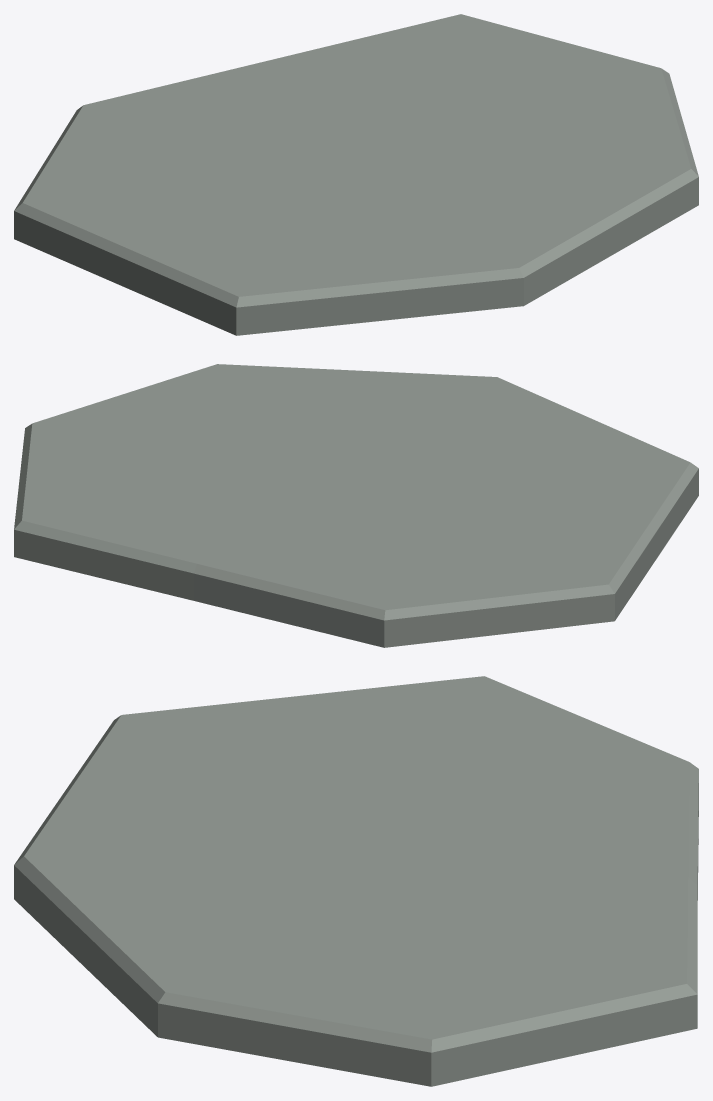
File: Pebble_03.glb
3 views of the same model, one above another, from view 1: azimuth 30°, elevation 25°; view 2: azimuth 150°, elevation 25°; view 3: azimuth 270°, elevation 25° (orthographic). The views are drawn at different scales.
Parts seen in each view (by area): view 1: Pebble_03; view 2: Pebble_03; view 3: Pebble_03.
Part boxes in pixels (x1,y1,x2,y2): Pebble_03: [14, 14, 698, 335]; Pebble_03: [14, 364, 698, 647]; Pebble_03: [14, 676, 698, 1086].
Size of the model in its own units: 0.4022 by 0.0215 by 0.3126.
Materials: 1 (1 with a texture image).
